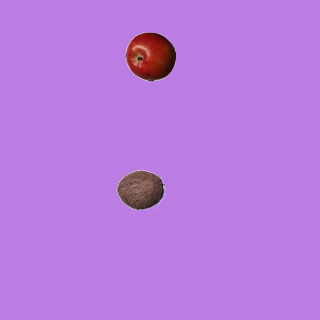Apple Braeburn: (125, 31, 175, 81)
Cocos: (115, 164, 165, 214)
